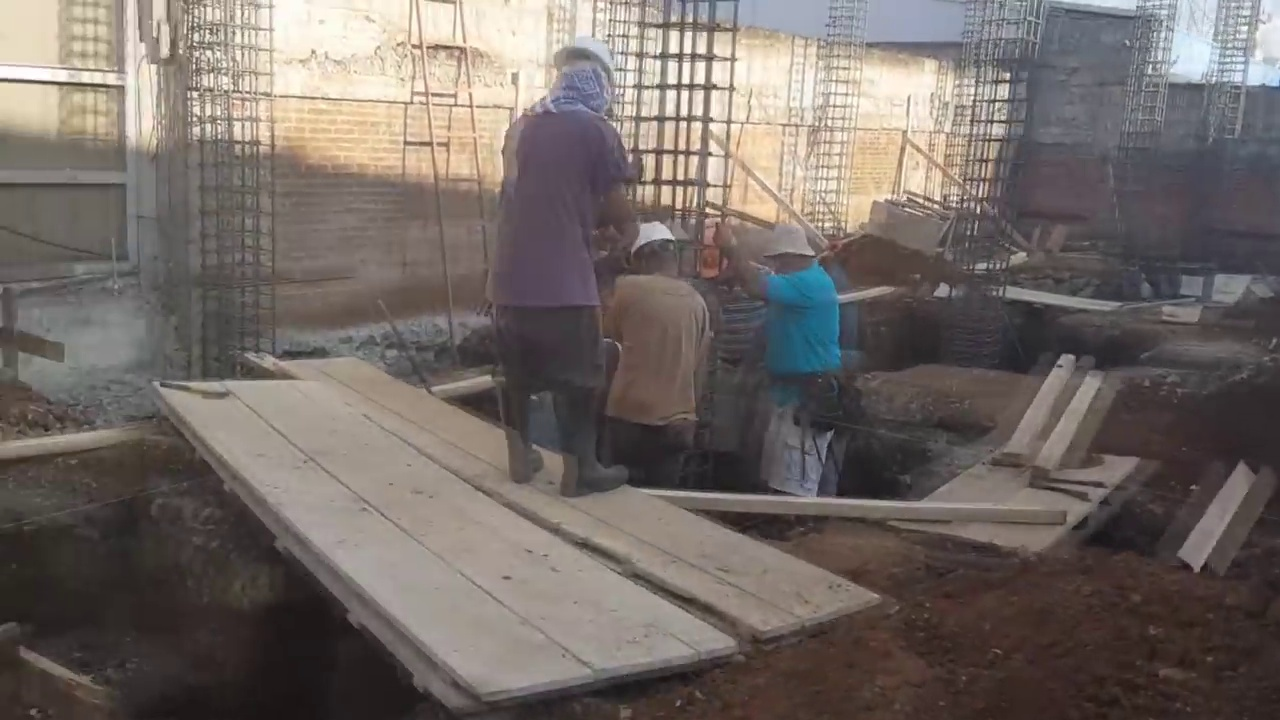helmet: (551, 38, 614, 81), (630, 217, 678, 254)
helmet-off: (761, 224, 820, 278)
helmet-on: (548, 28, 621, 113), (629, 219, 679, 268)
person: (477, 24, 633, 489), (604, 201, 717, 482), (748, 226, 852, 490)
